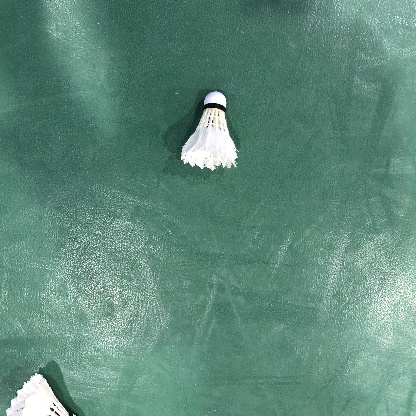ball_single: (180, 92, 237, 171), (6, 373, 77, 416)
